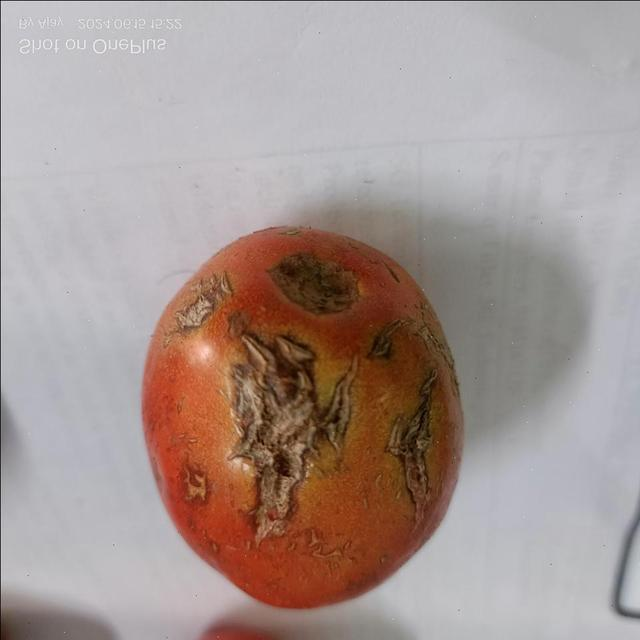Cracking Fruit: (115, 180, 244, 334)
